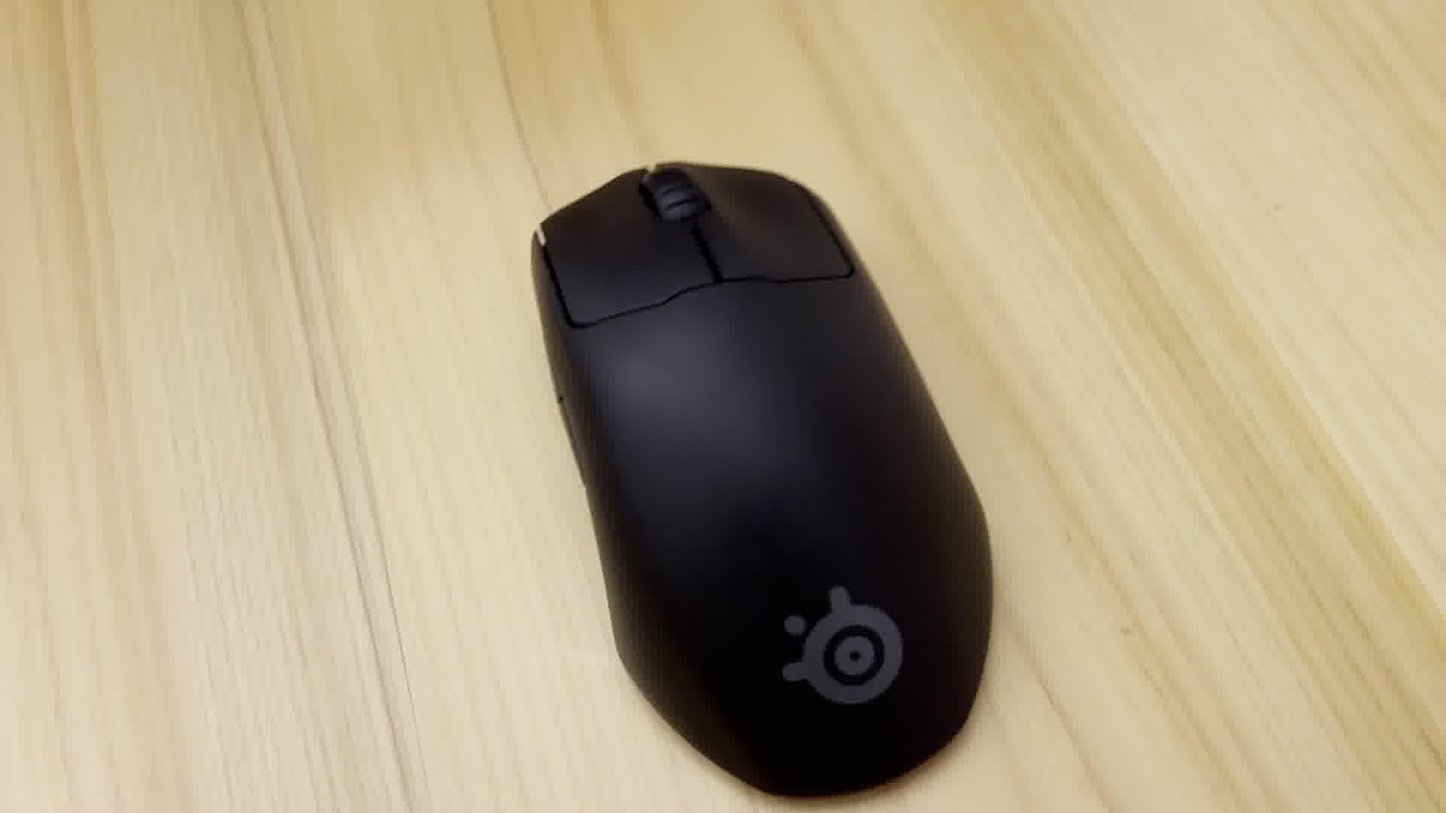steel-series: (523, 149, 1006, 806)
